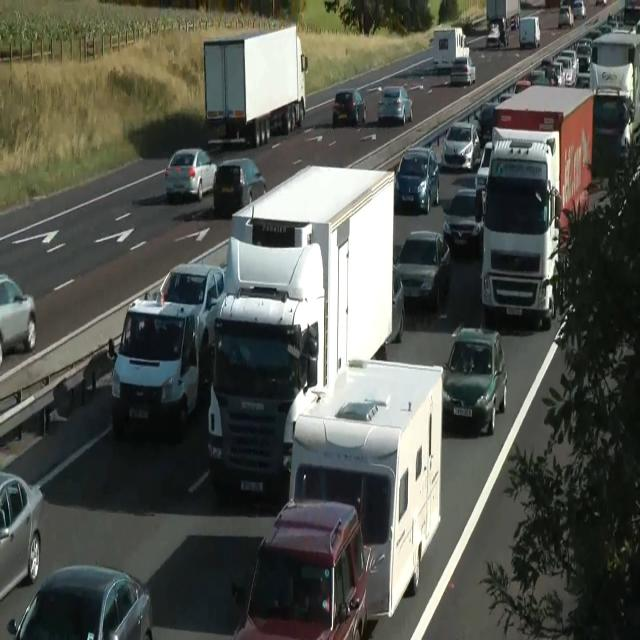bus: (8, 562, 154, 639), (441, 324, 507, 436), (0, 470, 44, 602), (395, 230, 451, 310), (0, 271, 36, 365), (213, 156, 267, 216), (394, 146, 440, 214), (164, 146, 217, 204), (442, 188, 484, 252), (442, 121, 481, 171), (385, 264, 405, 344), (377, 86, 413, 126), (474, 140, 492, 214), (332, 88, 366, 127), (553, 302, 579, 350), (553, 50, 579, 86), (450, 56, 476, 85), (486, 17, 510, 47), (575, 37, 593, 72), (558, 4, 574, 28), (486, 23, 500, 47), (572, 0, 586, 19), (595, 0, 607, 6)
car: (107, 161, 445, 632), (285, 358, 443, 620), (480, 126, 562, 329)
jeep: (207, 292, 317, 498), (232, 497, 368, 638), (107, 296, 201, 438)
minibus: (207, 163, 396, 500), (481, 84, 631, 326), (203, 23, 308, 148), (589, 23, 639, 151), (432, 26, 469, 74), (486, 0, 520, 47), (518, 15, 540, 49)
